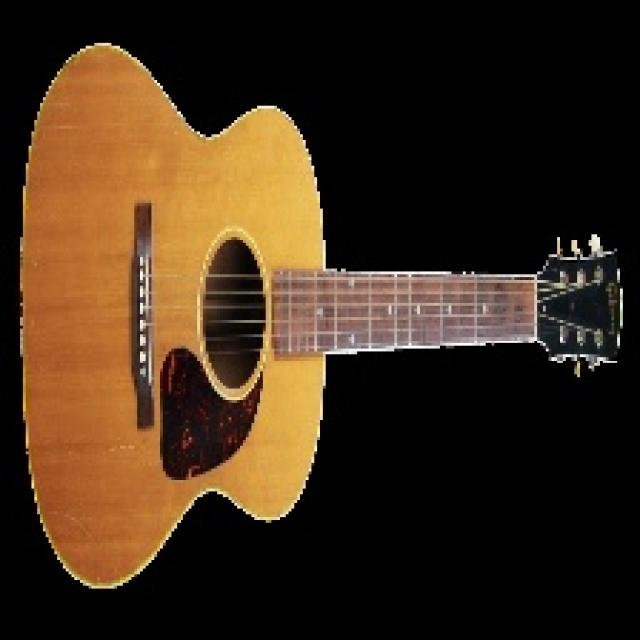guitar: (18, 43, 630, 589)
